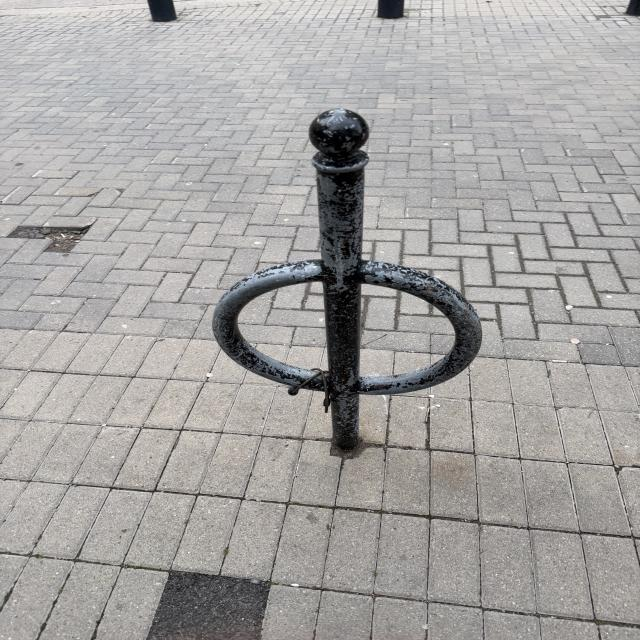Bicycle Rack: (210, 110, 482, 448)
